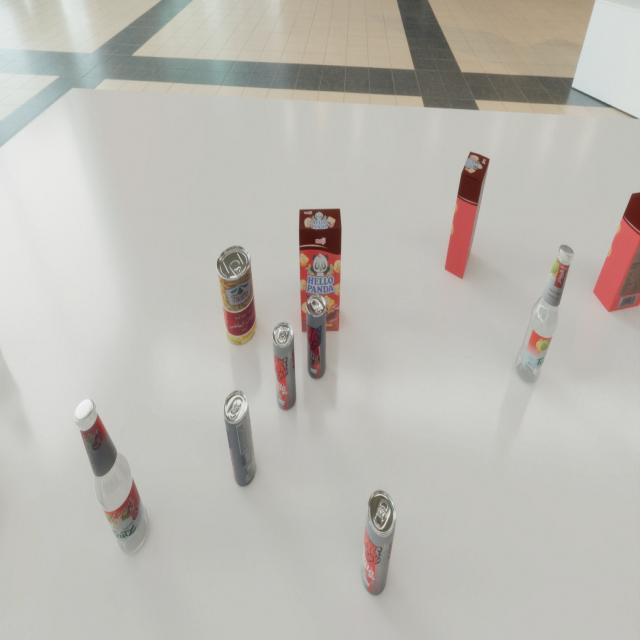Bottle: (74, 398, 149, 556), (515, 244, 574, 384)
HelloPanda: (444, 152, 490, 279), (299, 208, 341, 332)
Potato_sticks: (216, 246, 257, 346)
Rita_zero_sugar: (361, 490, 396, 596), (223, 390, 256, 487), (272, 322, 296, 411), (306, 294, 326, 380)
